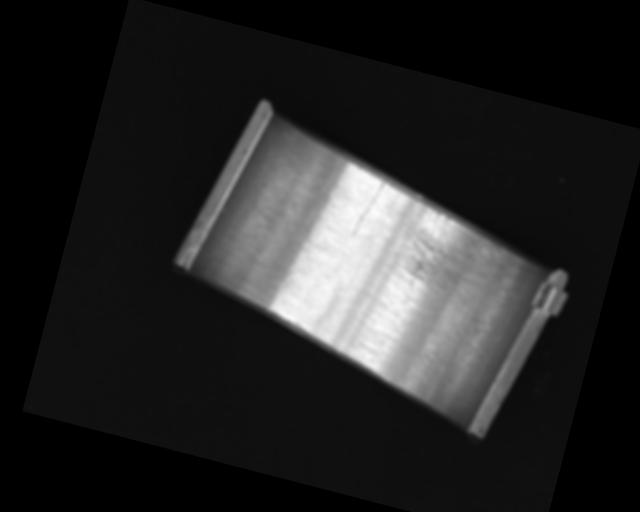nick: (205, 197, 265, 289), (351, 177, 385, 239)
scratch: (389, 197, 512, 307)
